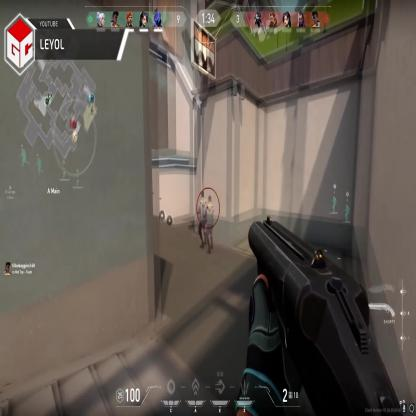enemy: (198, 192, 207, 246)
enemy_head: (201, 191, 204, 197)
